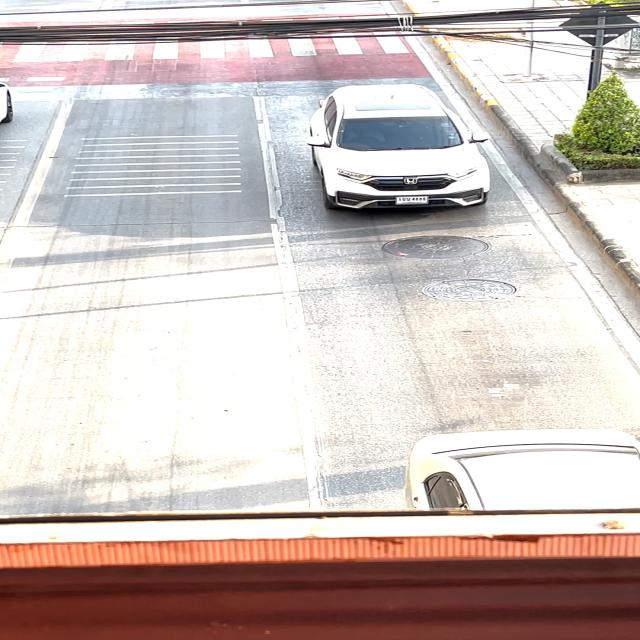car: (288, 70, 502, 226), (391, 418, 640, 519)
